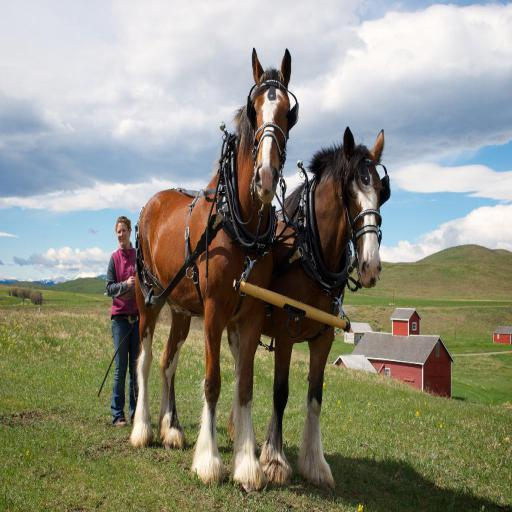Horse: (130, 50, 292, 489), (222, 127, 392, 494)
